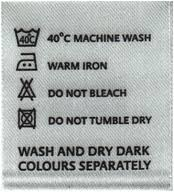ER_iron_medium_temp: (16, 51, 40, 72)
ER_no_bleach: (15, 76, 39, 102)
ER_no_tumble_dry: (17, 105, 39, 131)
ER_wash_40: (11, 24, 45, 49)
